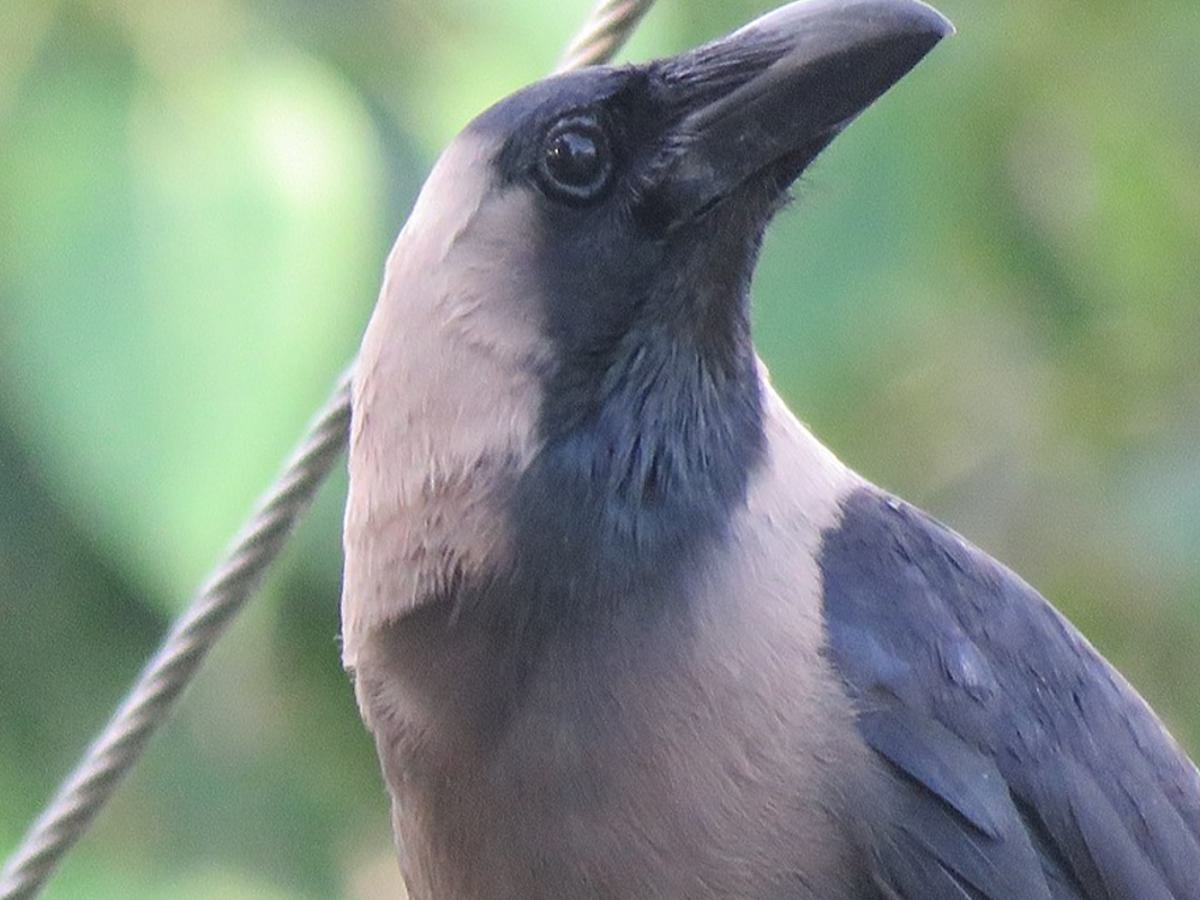crow: (319, 1, 1200, 900)
